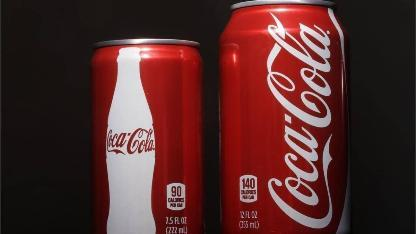Can: (216, 0, 352, 234), (89, 38, 207, 234)
